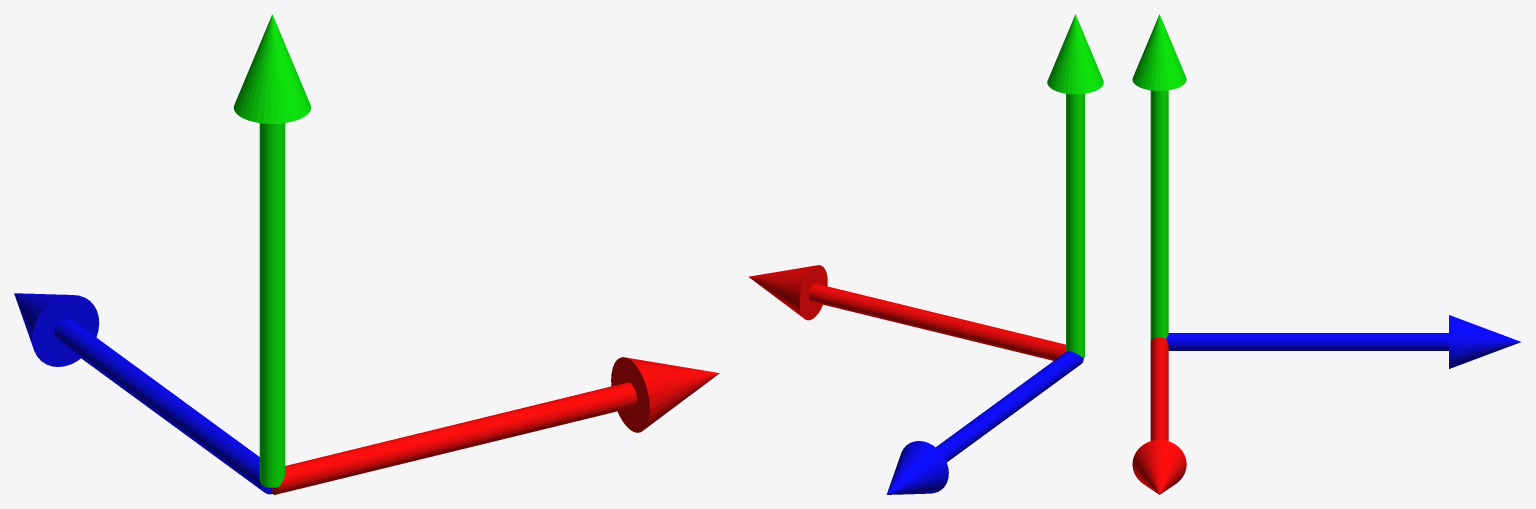
File: DXRefSys.obj
3 views of the same model, side by side, from view 1: azimuth 30°, elevation 25°; view 2: azimuth 150°, elevation 25°; view 3: azimuth 270°, elevation 25° (orthographic). The views are drawn at different scales.
Visible parts, largest first — view 1: Cylinder.001; view 2: Cylinder.001; view 3: Cylinder.001.
Part boxes in pixels (x1=…): Cylinder.001: x1=14, y1=14, x2=719, y2=494; Cylinder.001: x1=748, y1=14, x2=1103, y2=494; Cylinder.001: x1=1132, y1=14, x2=1520, y2=494.
Size of the model in its own units: 1.07 by 1.07 by 1.07.
